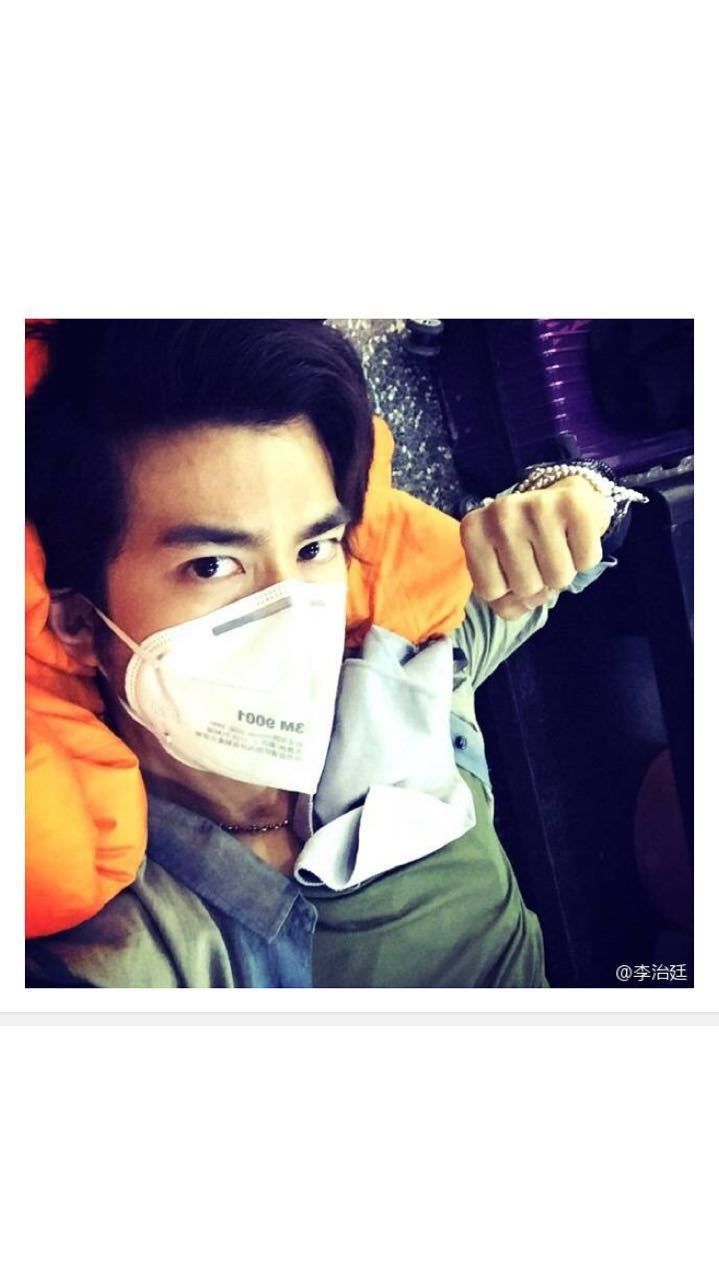face_mask: (131, 423, 351, 783)
